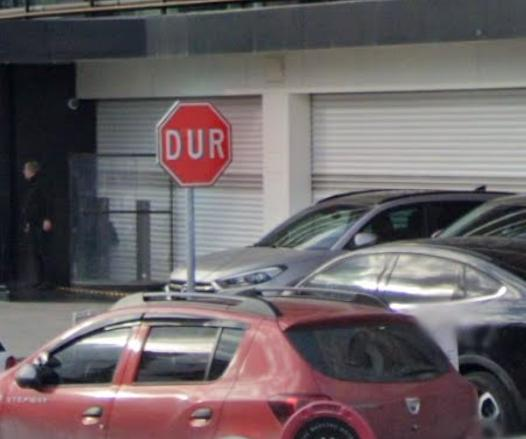stop: (159, 99, 233, 190)
